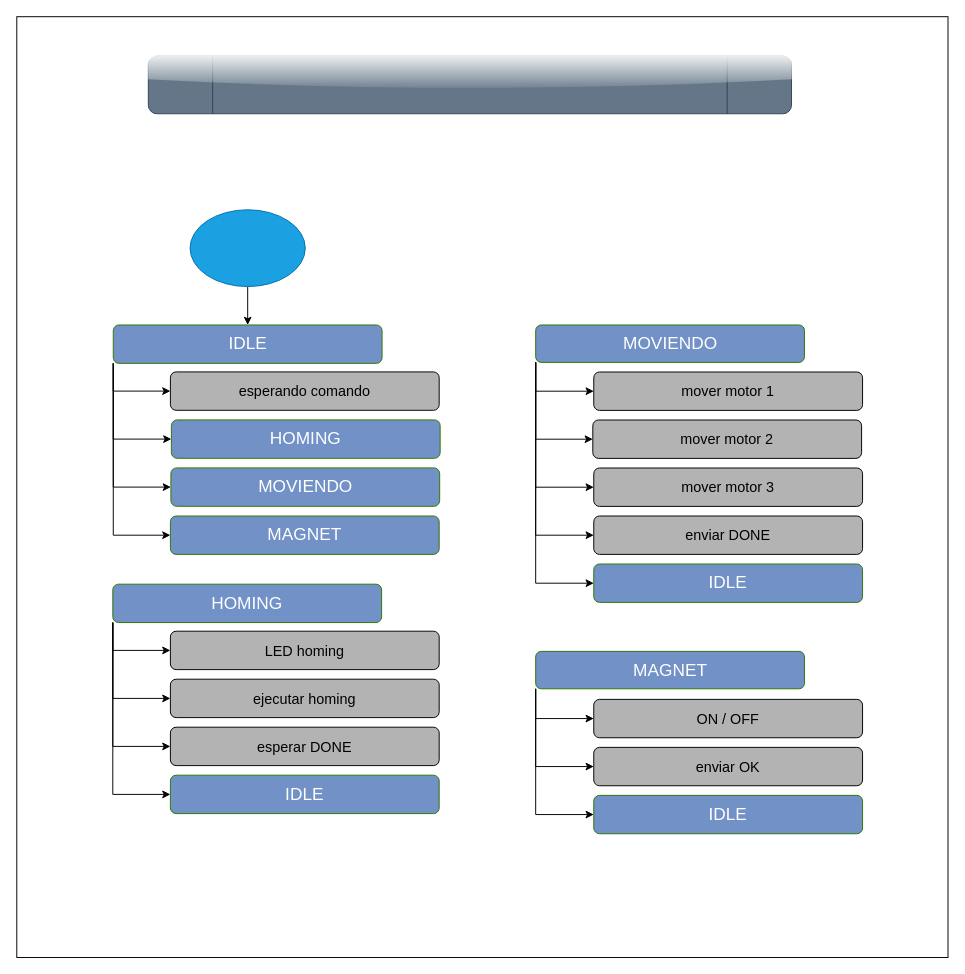
Some shapes in this 965 by 974 pixel diagram are drawn without their labels. Here are the shapes that lost their labels. From the top down, the box of each, then its label:
(147, 55, 792, 114): Zero - Maquina de estados (Zero_main.ino)
(189, 209, 305, 287): INICIO
